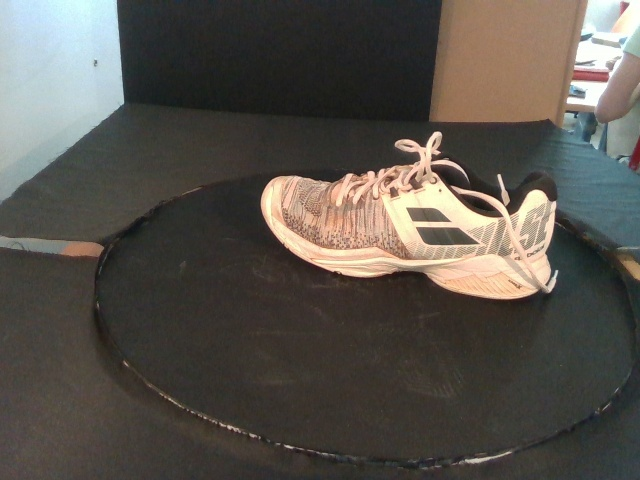shoe: (259, 152, 558, 301)
